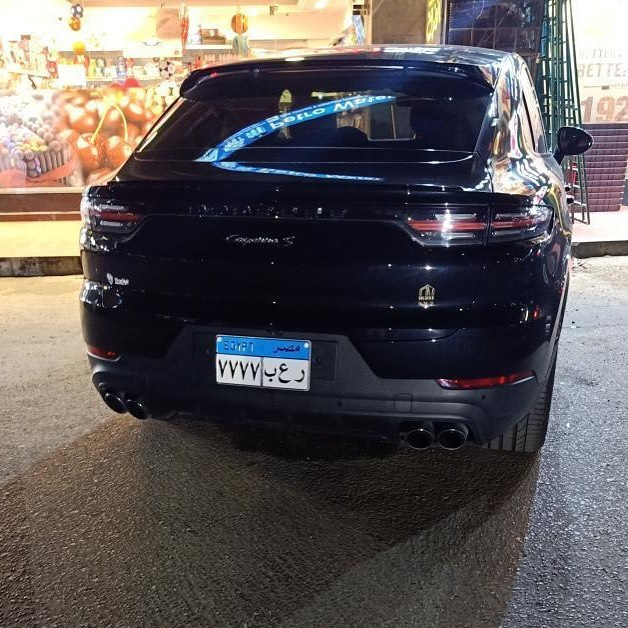carpl: (213, 348, 311, 389)
